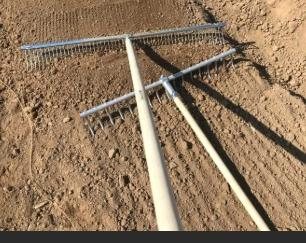RATEAU: (16, 10, 288, 243)
